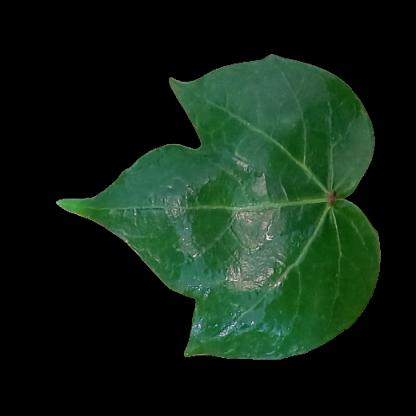healthy: (148, 169, 345, 273), (194, 275, 313, 358), (232, 70, 316, 162), (185, 84, 233, 182), (315, 100, 353, 206), (102, 191, 151, 234)
